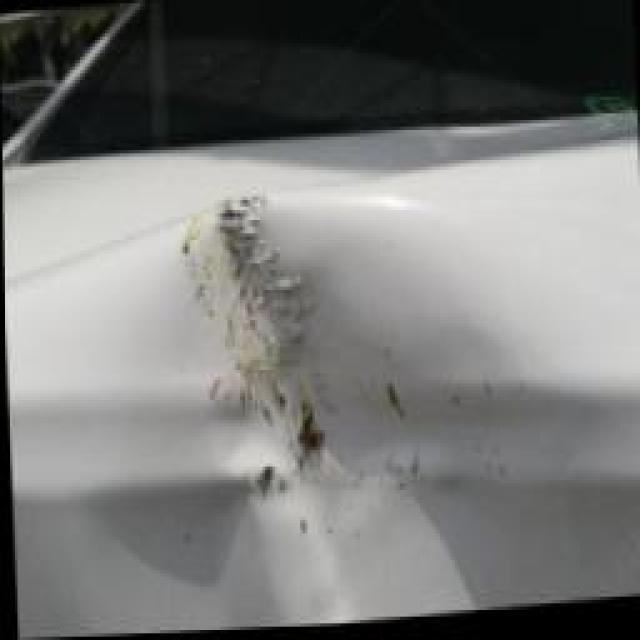Door: (122, 123, 527, 635)
